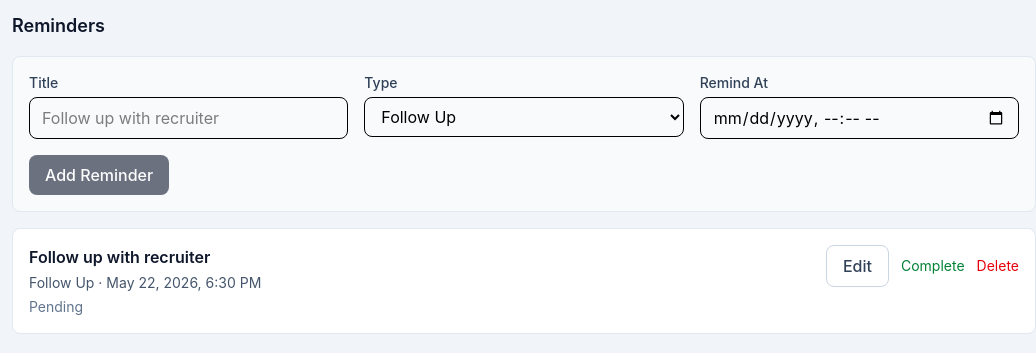
Test: RemindersSection › cancel edit clears edit mode
Expected: the heading "Follow up with recruiter" is shown, [29,247,210,267]
Click the button "Edit".
click(857, 266)  # box [826,245,889,287]
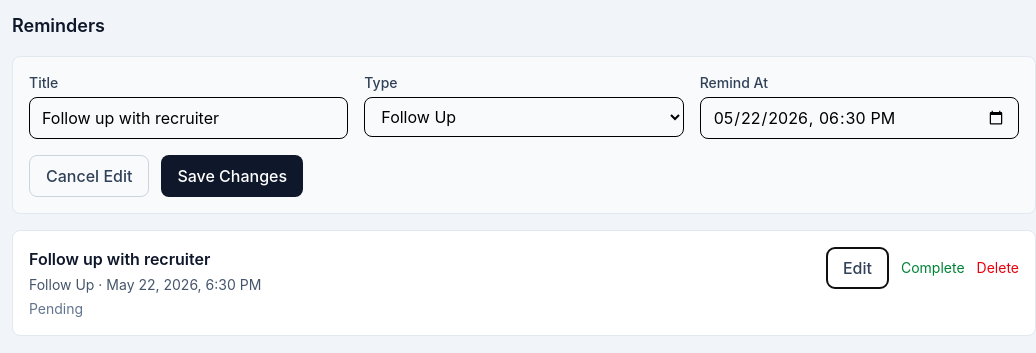
Expected: the field labelled "Title" holds "Follow up with recruiter", [29,97,348,139]
Click the button "Cancel Edit".
click(89, 176)  # box [29,155,149,197]
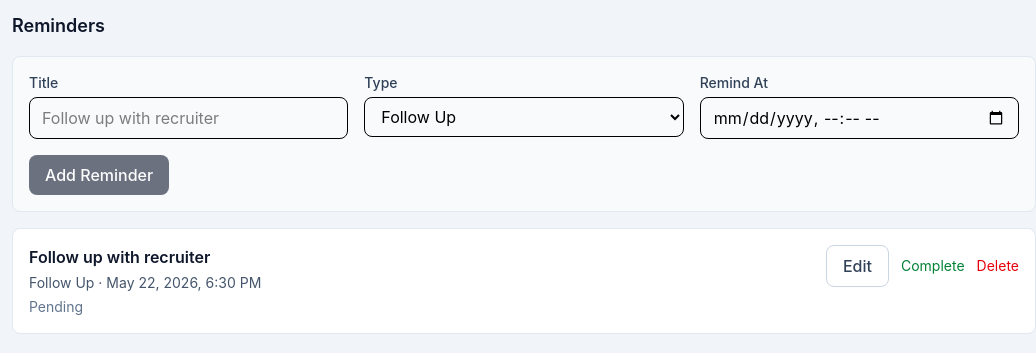
Expected: the field labelled "Title" is empty, [29,97,348,139]
Expected: the button "Add Reminder" is shown, [29,155,169,195]
